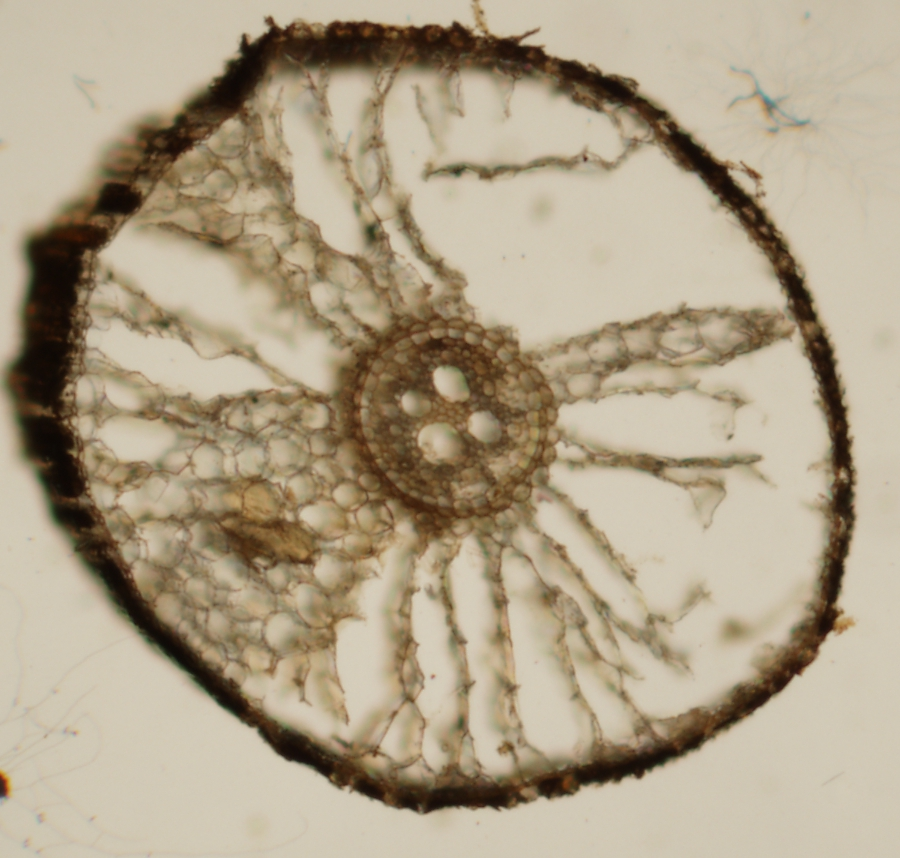lm: (418, 422, 465, 465), (432, 364, 470, 402), (468, 411, 501, 443), (402, 389, 431, 416)
